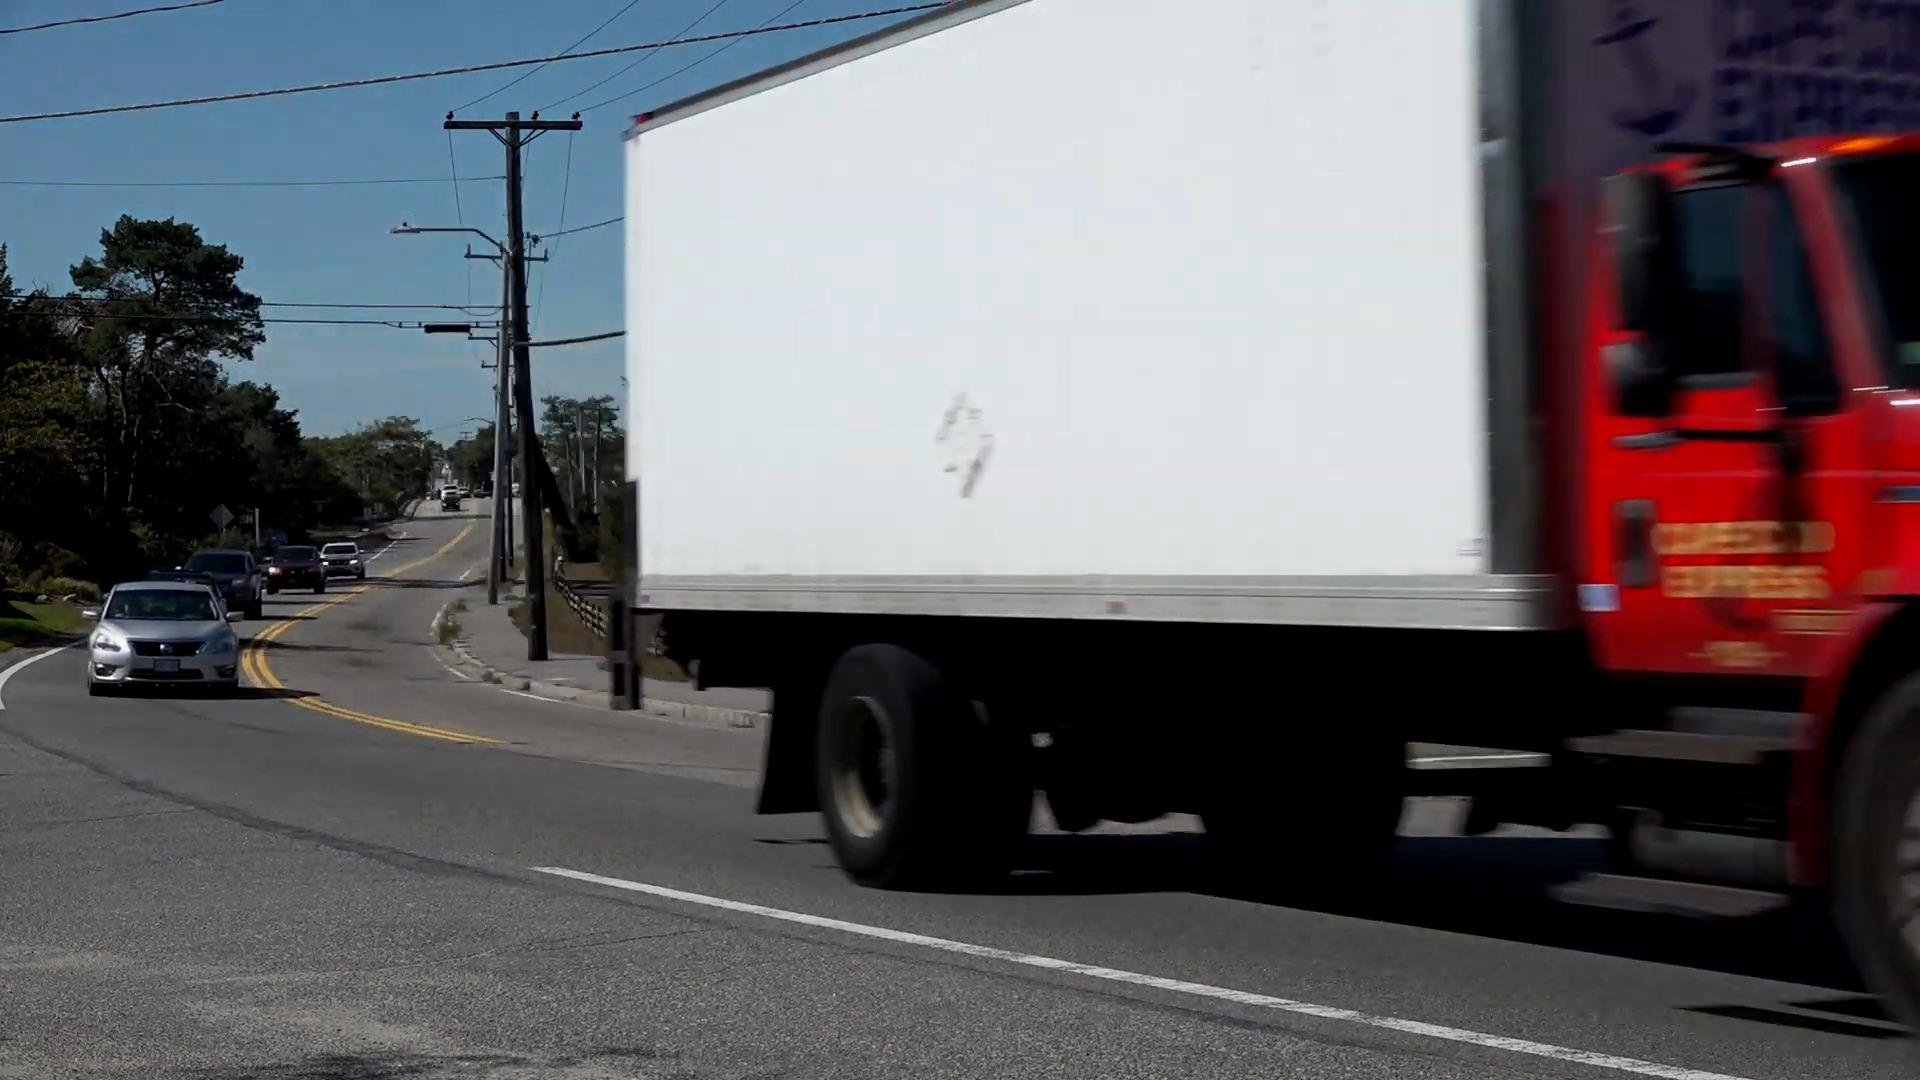sedans: (82, 571, 248, 698)
truck: (625, 1, 1920, 1038)
